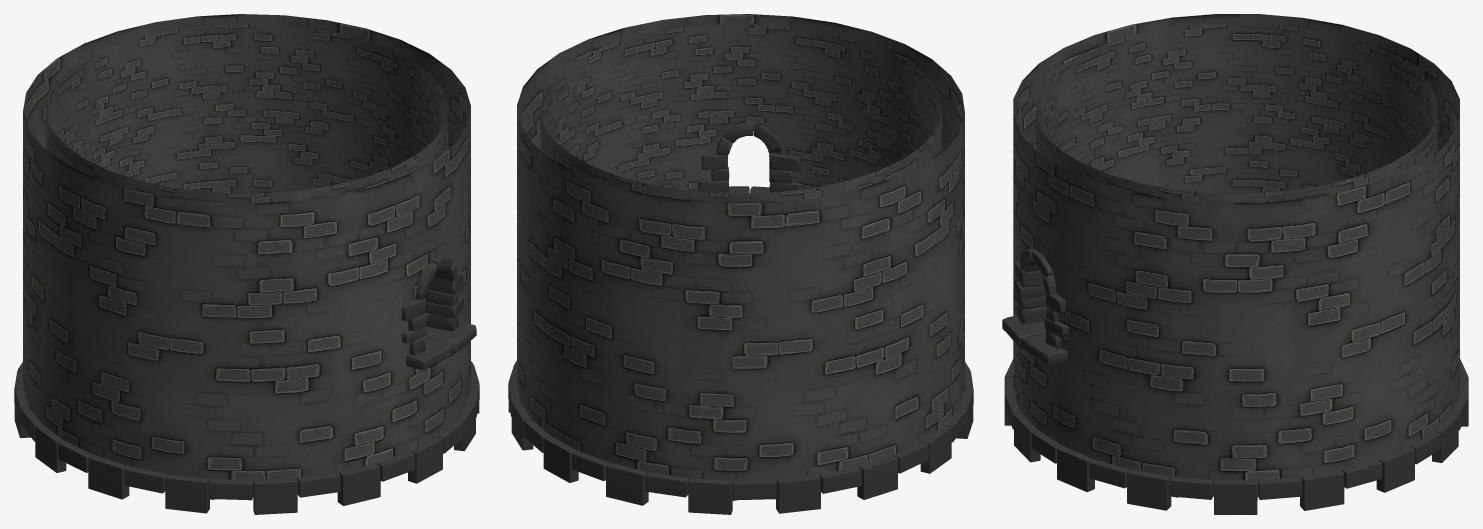
File: SM_Tower_Mid_Window_WIP.FBX
3 renders of one model, left to right at view 1: azimuth 30°, elevation 25°; view 2: azimuth 150°, elevation 25°; view 3: azimuth 270°, elevation 25°, orthographic.
Visible parts, largest first — view 1: SM_Tower_Mid_Window_WIP_LOD0; view 2: SM_Tower_Mid_Window_WIP_LOD0; view 3: SM_Tower_Mid_Window_WIP_LOD0.
Part boxes in pixels (x1=…): SM_Tower_Mid_Window_WIP_LOD0: x1=14, y1=14, x2=479, y2=514; SM_Tower_Mid_Window_WIP_LOD0: x1=508, y1=14, x2=973, y2=514; SM_Tower_Mid_Window_WIP_LOD0: x1=1002, y1=14, x2=1468, y2=514.
Bounding box in the file's own units: 1418 × 1425 × 1041.
